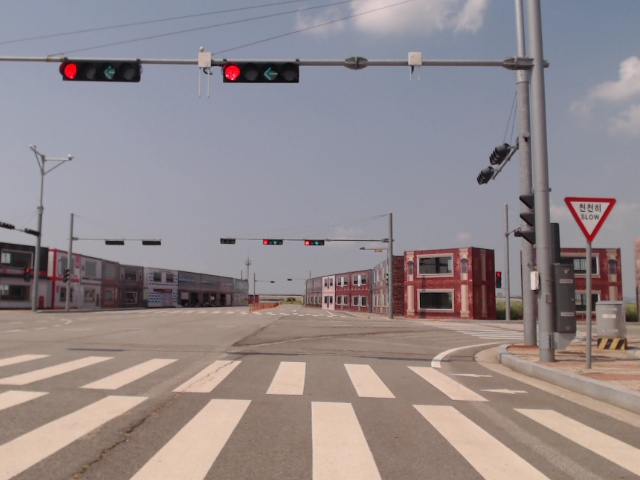left_green_4: (61, 60, 139, 81), (223, 64, 298, 84)
